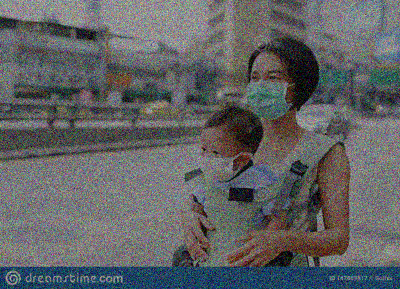with_mask: (245, 68, 294, 122), (196, 141, 240, 182)
